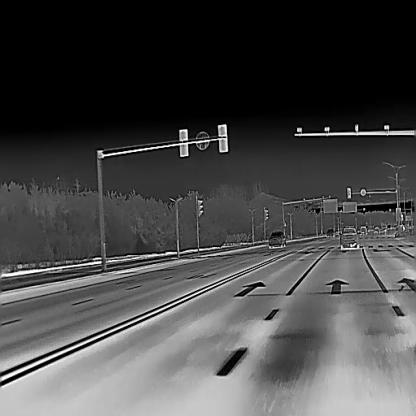car: (338, 226, 358, 247), (268, 230, 285, 247), (359, 224, 368, 234), (326, 226, 334, 236), (373, 228, 378, 233)
